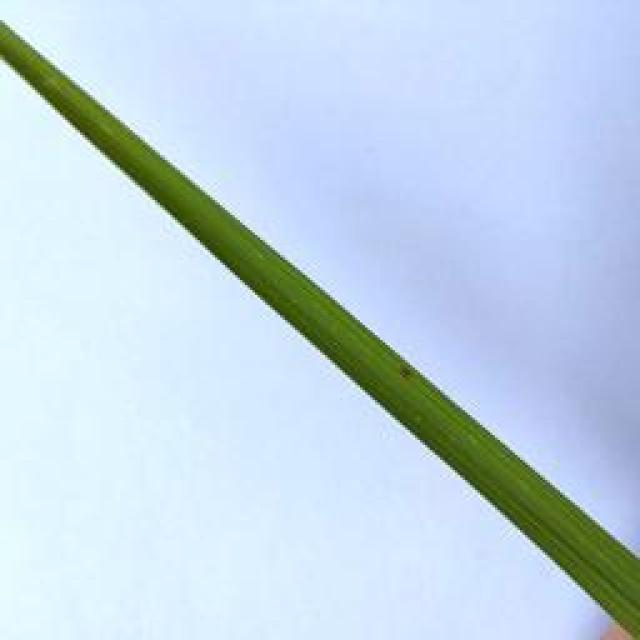Brown_Spot: (384, 352, 422, 384)
